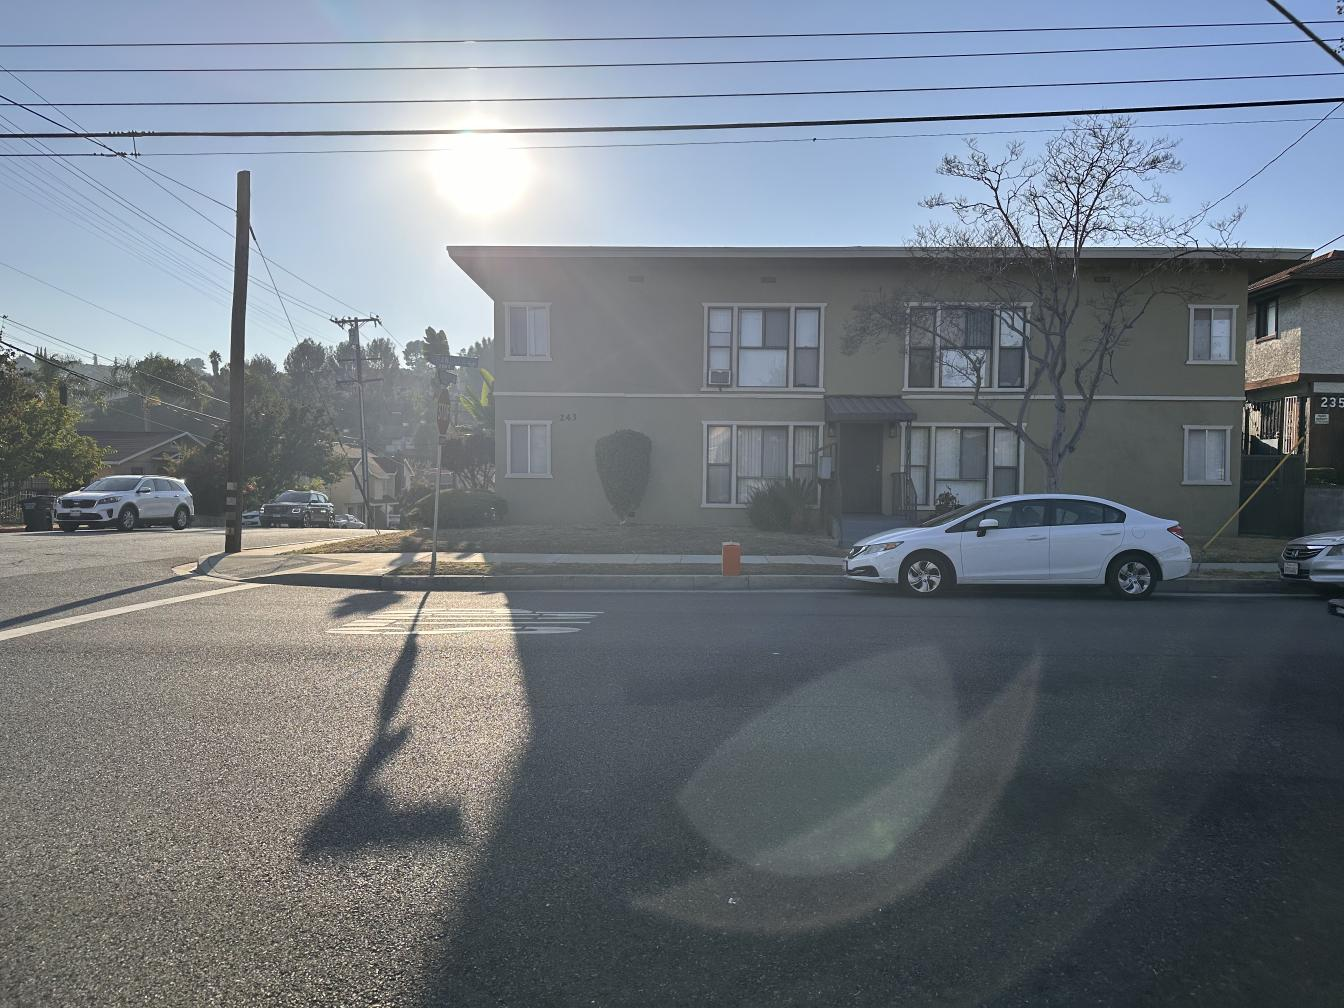curbs-laRr: (419, 577, 837, 592), (1196, 577, 1274, 594)
orange box: (722, 541, 741, 576)
